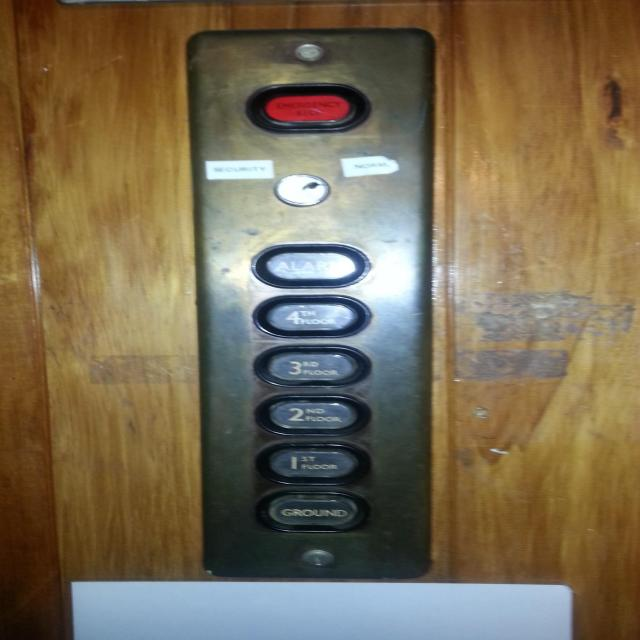1: (255, 439, 372, 485)
2: (254, 394, 372, 436)
3: (254, 345, 371, 387)
4: (252, 294, 371, 338)
keyhole: (272, 173, 331, 208)
text_alarm bell: (249, 243, 370, 288)
text_emergency: (245, 83, 372, 133)
text_ground: (254, 488, 372, 532)
